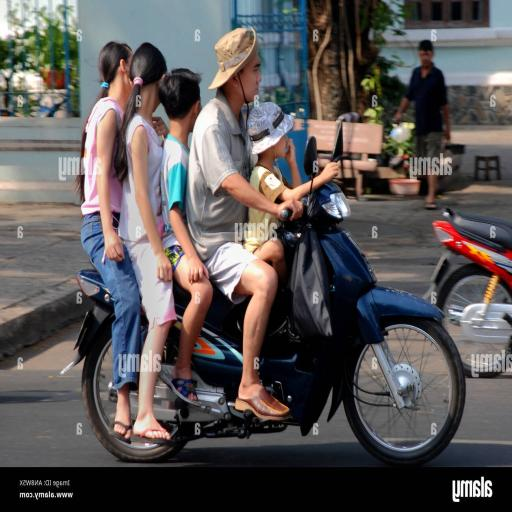overloading: (73, 25, 340, 440)
